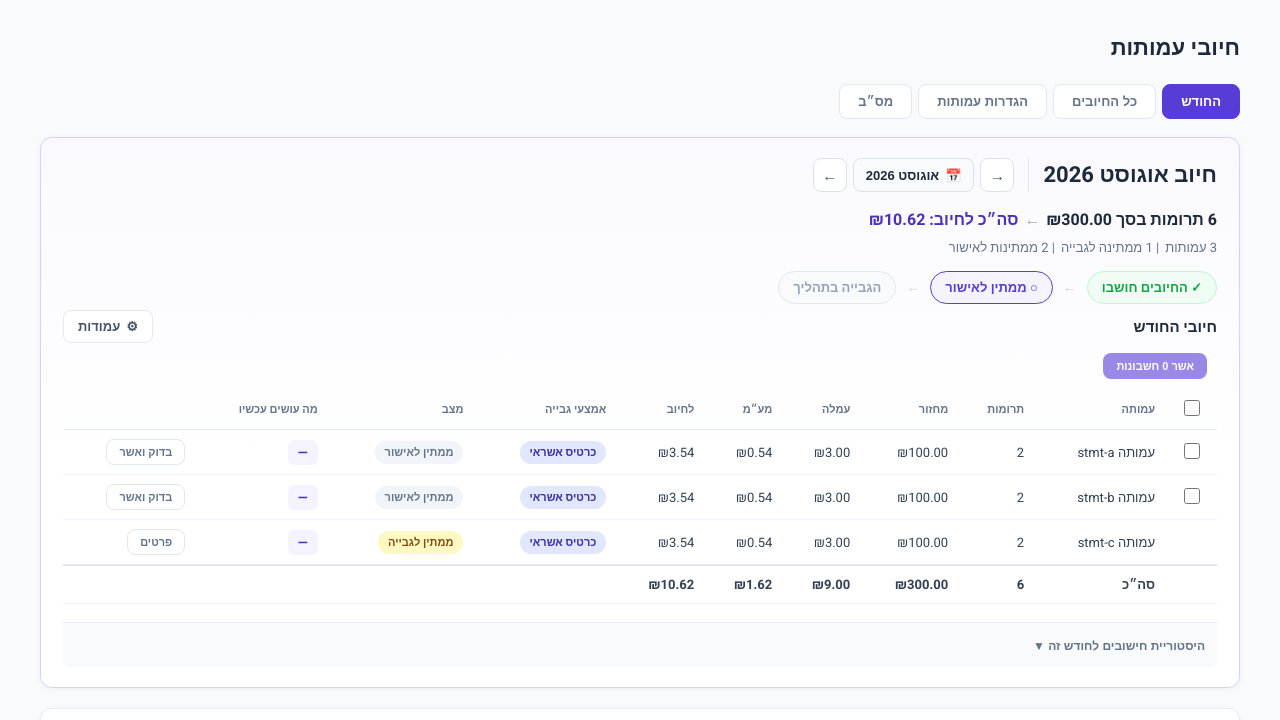
Scenario: PlatformBillingOpsPageComponent - bulk approval › shows the compact mixed-result summary -- "1 חשבון אושר" and "1 חשבון דורש טיפול" -- when one of two fails
The image size is (1280, 720).
Step 1. Click the checkbox named "בחר את עמותה stmt-a" → (1192, 451), box [1184,443,1200,459]
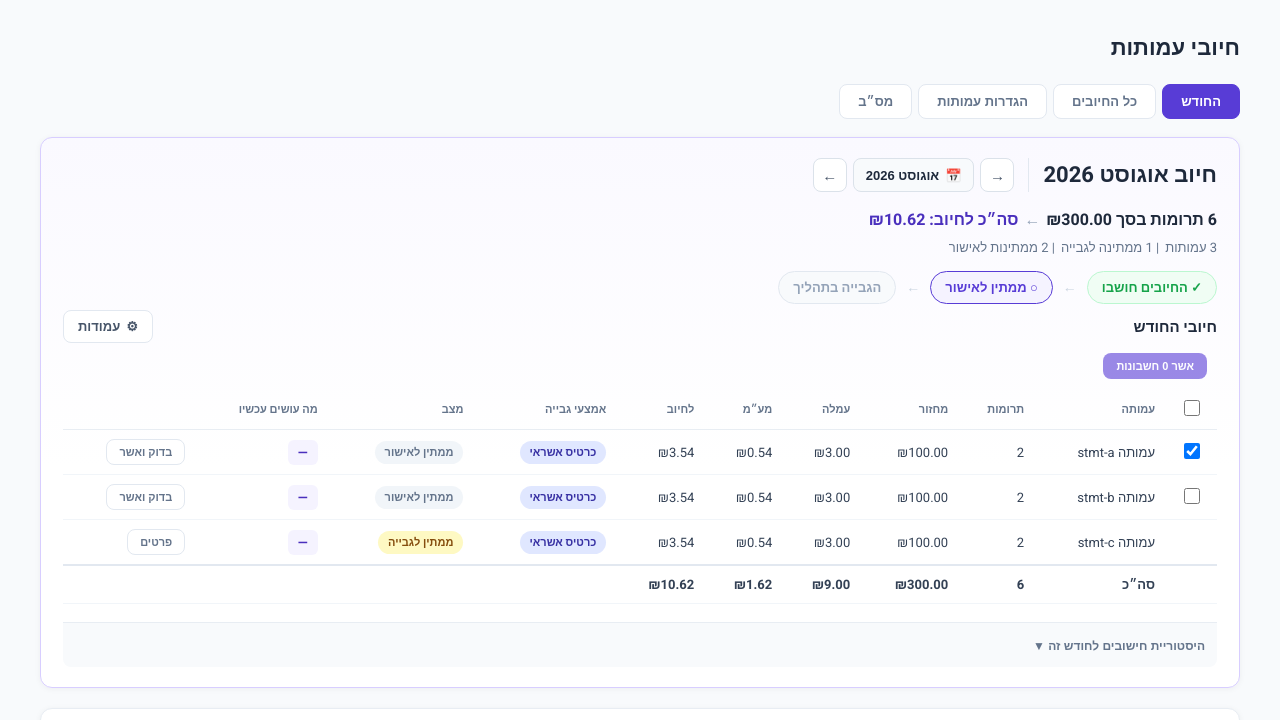
Step 2. Click the checkbox named "בחר את עמותה stmt-b" → (1192, 496), box [1184,488,1200,504]
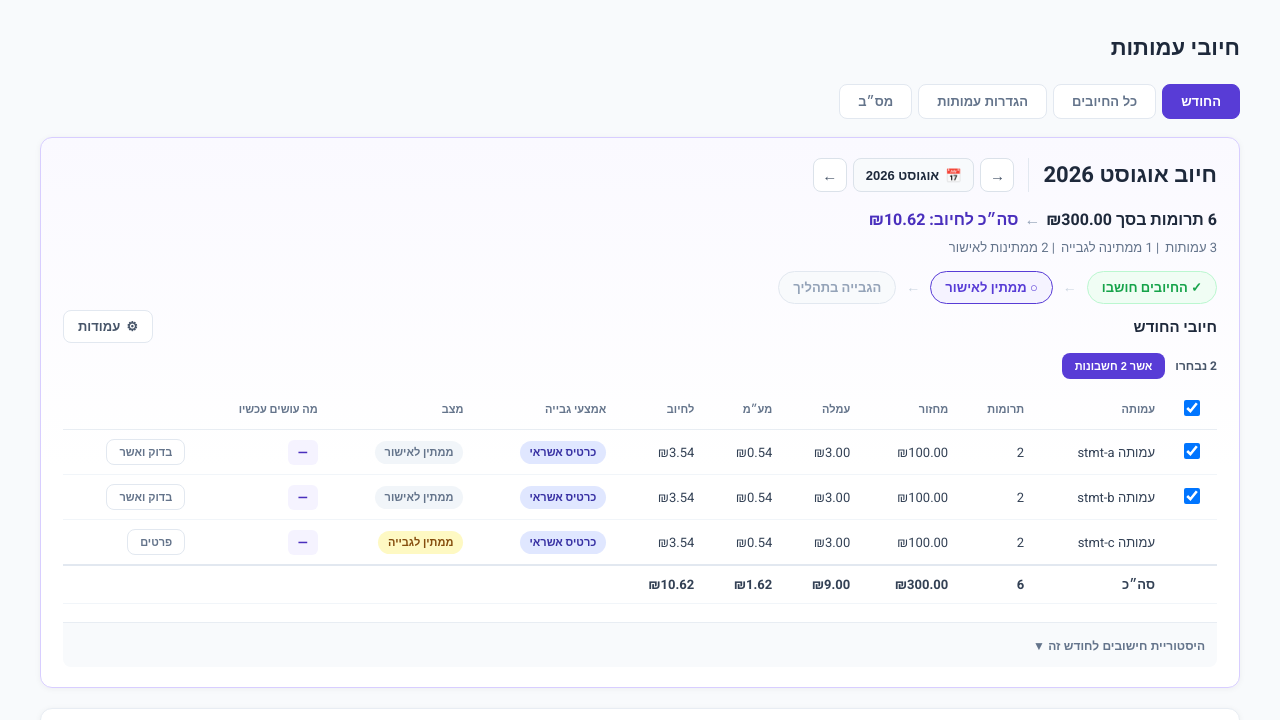
Step 3. Click the button "אשר 2 חשבונות" → (1114, 366), box [1062,353,1165,379]
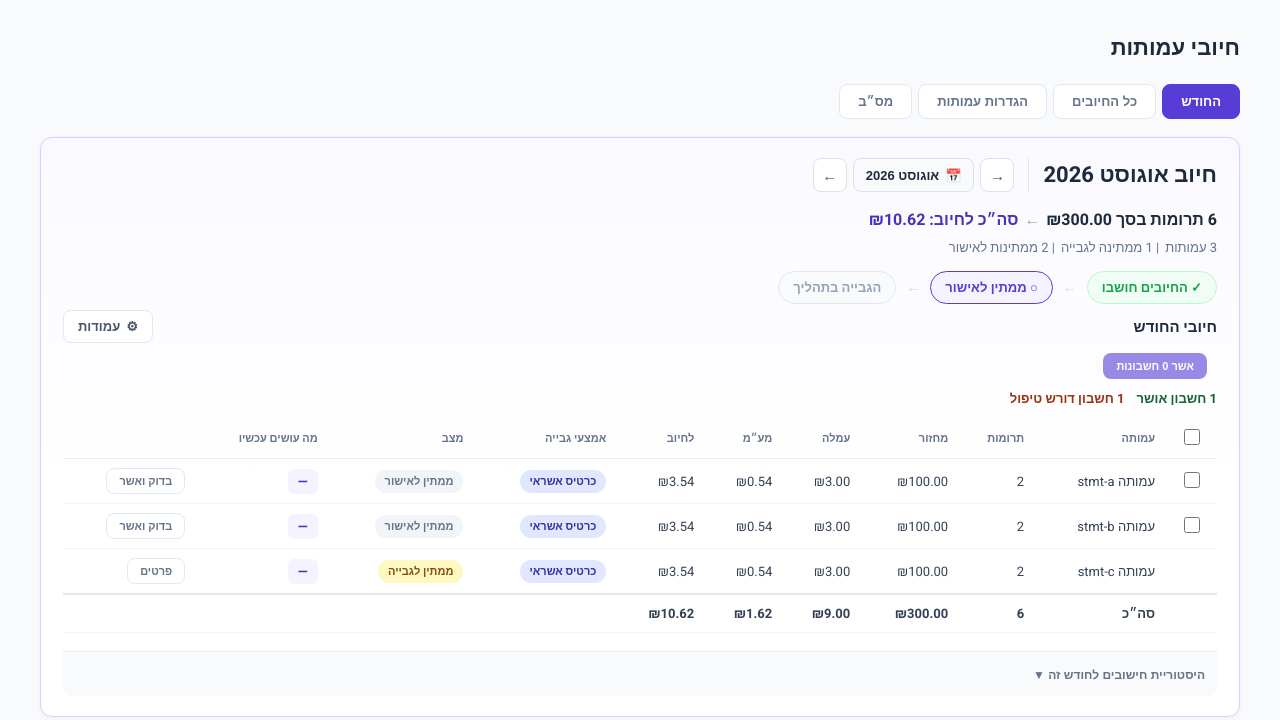
Result: the element with class "bo-bulk-approval-result" shows "1 חשבון אושר" at [1137,389,1217,408]
Result: the element with class "bo-bulk-approval-result" shows "1 חשבון דורש טיפול" at [1010,389,1125,408]
